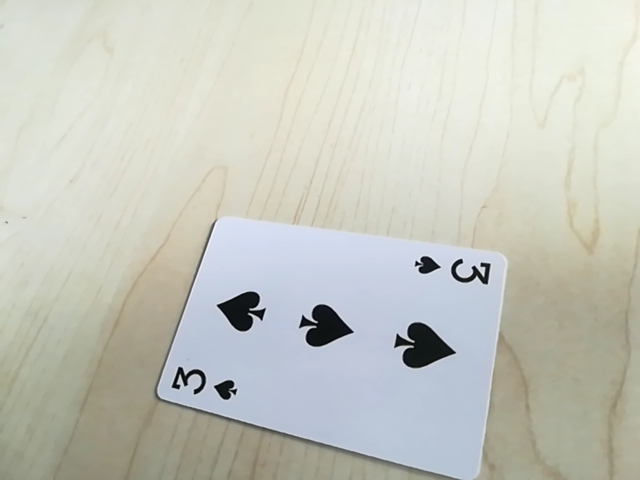ht 3: (408, 251, 498, 291), (164, 361, 245, 401)
